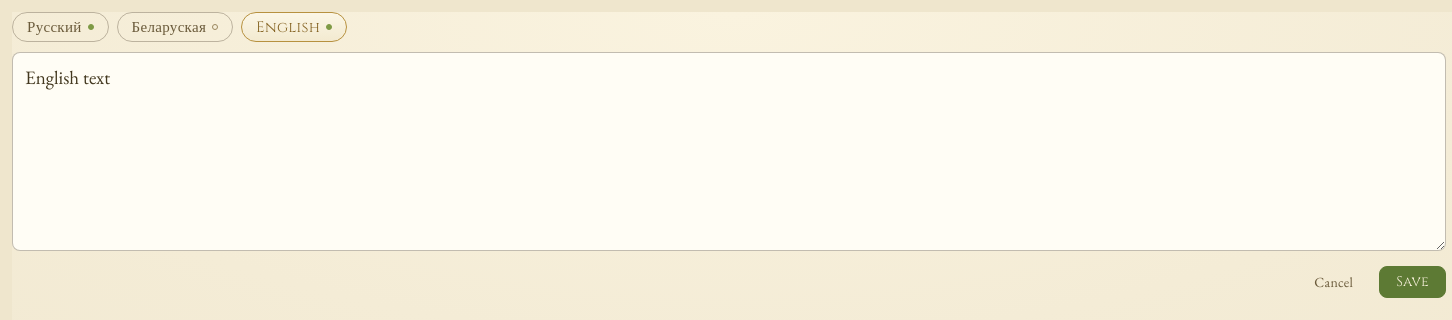
Scenario: BiographyEditor › switches the textarea content when another tab is selected
Click the tab with test id "bio-tab-ru" at [60, 27], box 12,12 -> 109,42
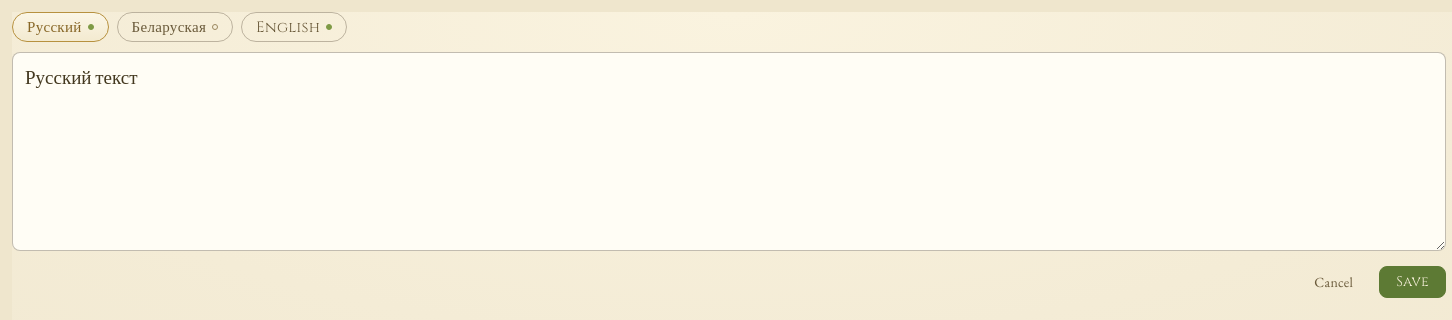
expect the text box with test id "bio-input" holds "Русский текст": met
